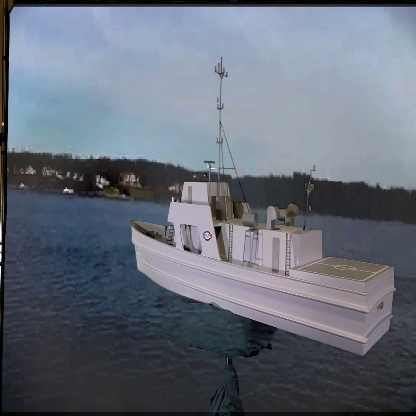YP689: (131, 61, 396, 357)
